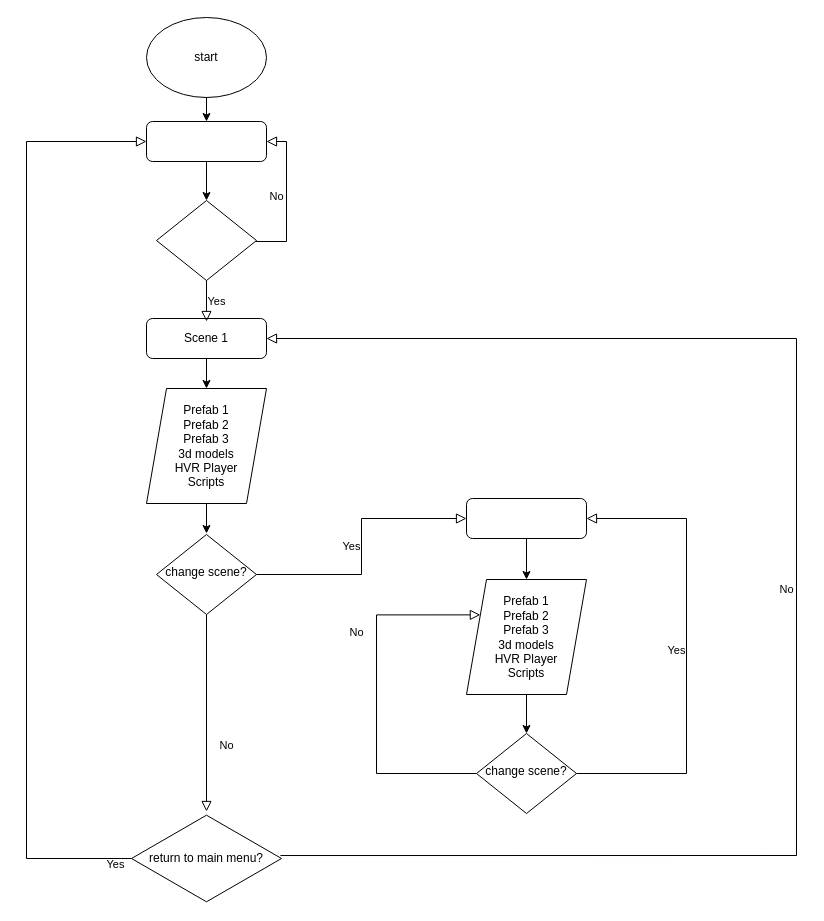
This 824x921 diagram has some shape labels left out. The shapes that lost their labels are listed below. From the top down, each one's centre as x and y in pixels, then its label:
At pixel 206 141: "Main scene".
At pixel 206 240: "Visit museum?".
At pixel 526 518: "Scene id".
